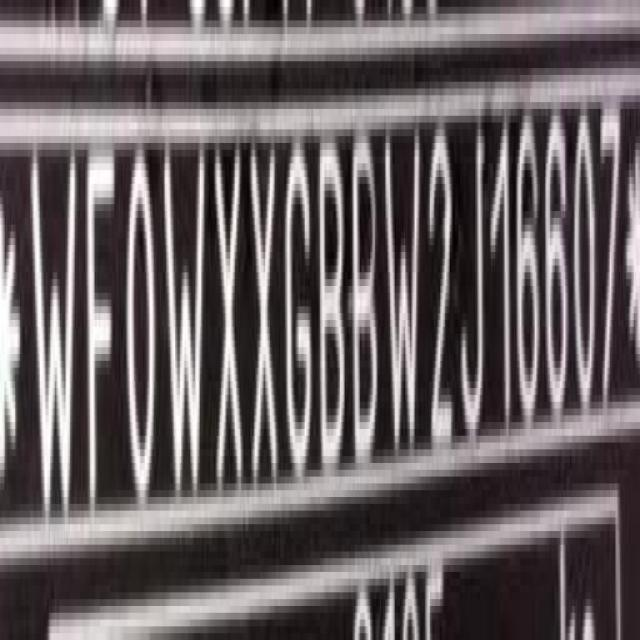0: (124, 152, 162, 514), (573, 106, 599, 424)
1: (492, 116, 514, 426)
2: (427, 117, 457, 458)
6: (515, 104, 543, 434), (546, 106, 574, 429)
7: (600, 98, 623, 416)
B: (349, 134, 384, 472), (316, 141, 348, 467)
F: (86, 149, 121, 519)
G: (284, 136, 318, 489)
J: (459, 119, 488, 454)
W: (27, 146, 80, 528), (162, 149, 207, 487), (384, 125, 425, 467)
X: (209, 140, 247, 501), (247, 138, 282, 498)
